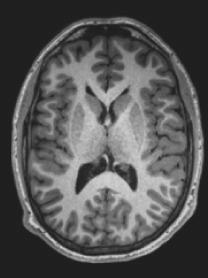Normal_Brain: (4, 1, 208, 278)
